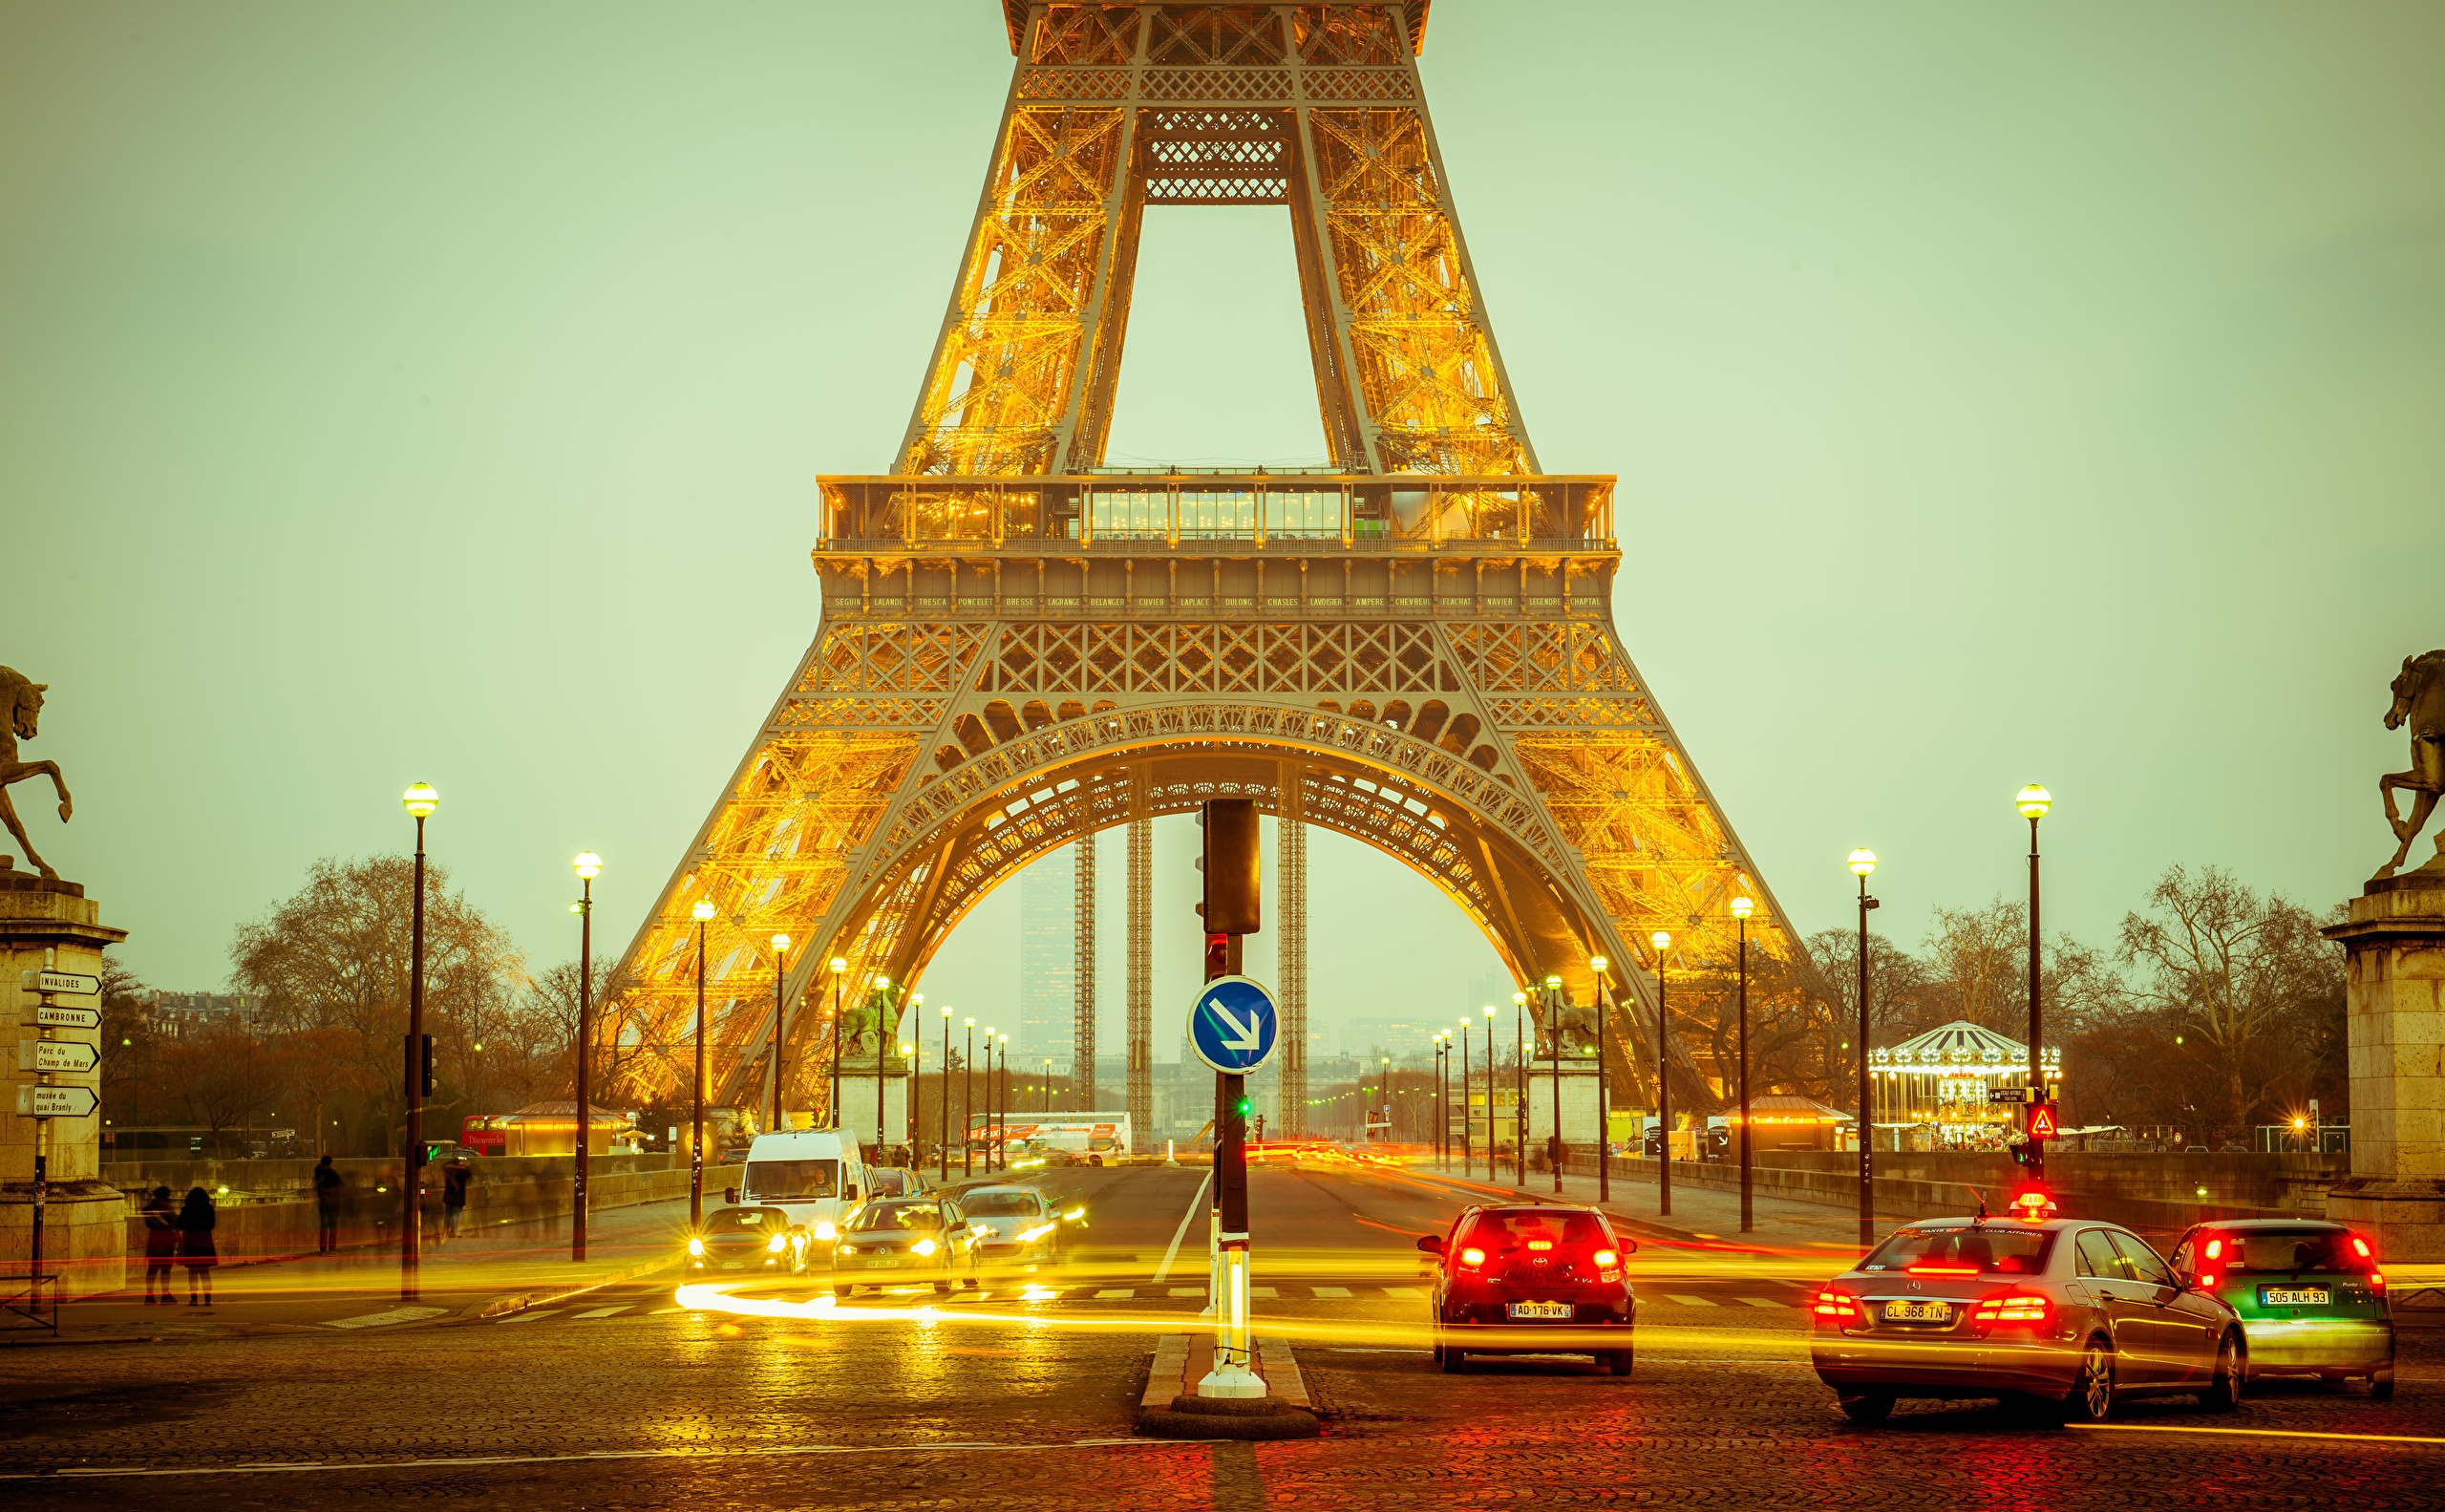d: (1177, 966, 1298, 1079)
